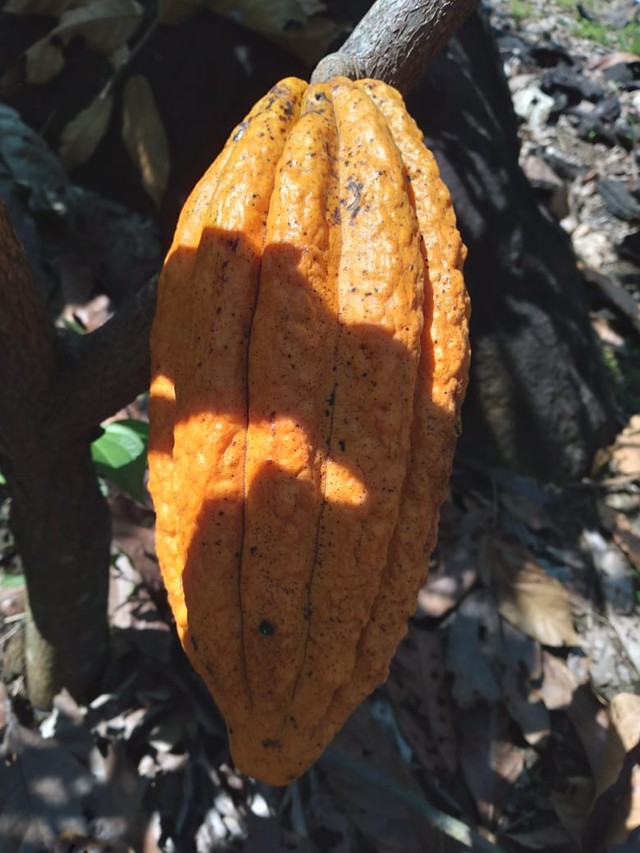Health: (136, 69, 482, 790)
